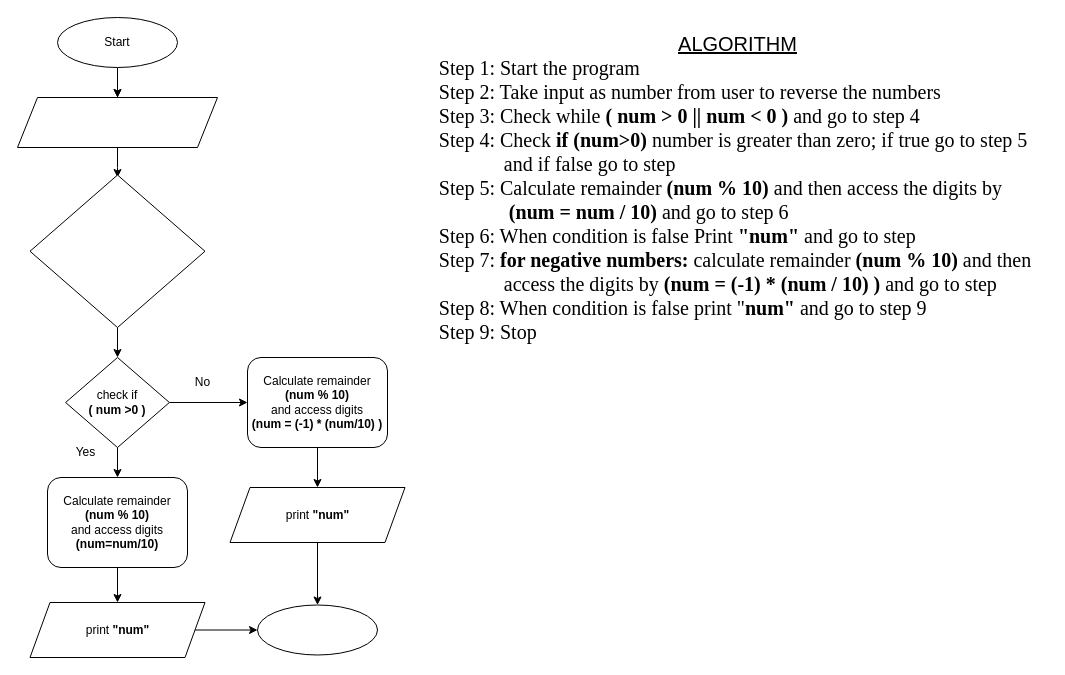
Some shapes in this 1065 by 675 pixel diagram are drawn without their labels. The centre of each missing label's shape, as x and y in pixels:
Check while ( num2 > 0 || num < 0 ): point (117, 251)
Enter number (num): point (117, 122)
Stop: point (317, 629)
